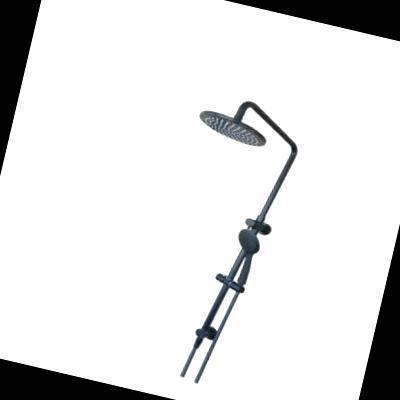Ducha: (122, 82, 320, 395)
